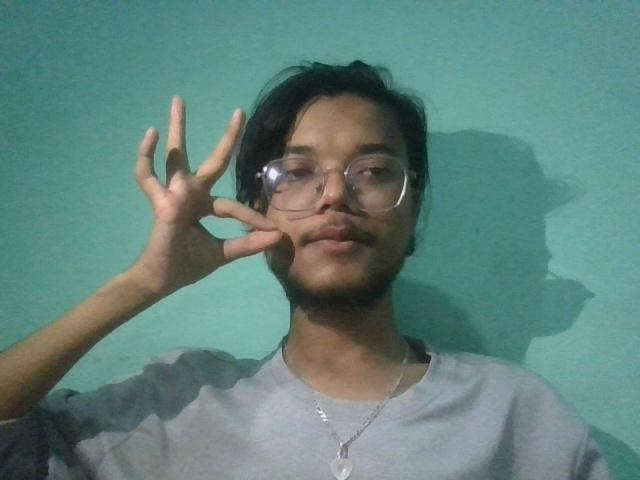Cat: (125, 85, 294, 329)
